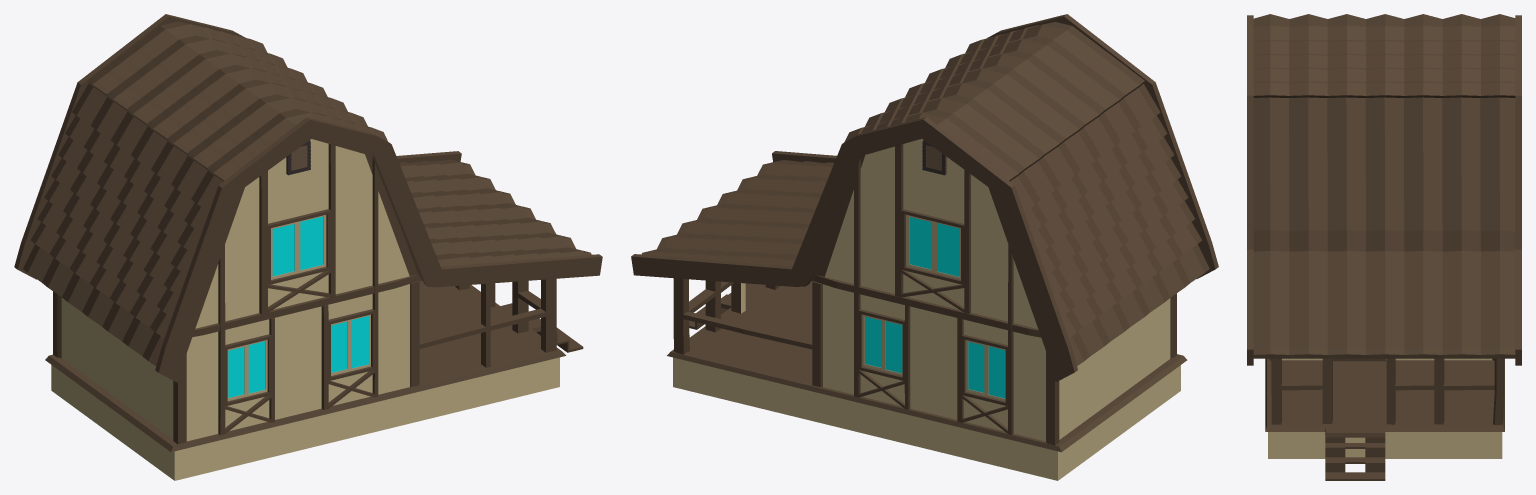
The model's file is Main_third_level (1).fbx.
3 views of the same model, side by side, from view 1: azimuth 30°, elevation 25°; view 2: azimuth 150°, elevation 25°; view 3: azimuth 270°, elevation 25° (orthographic). The views are drawn at different scales.
Parts seen in each view (by area): view 1: Cube; view 2: Cube; view 3: Cube.
Part boxes in pixels (x1=…): Cube: x1=14, y1=14, x2=602, y2=480; Cube: x1=631, y1=14, x2=1218, y2=480; Cube: x1=1247, y1=14, x2=1521, y2=480.
Bounding box in the file's own units: 5288 × 3677 × 2840.
